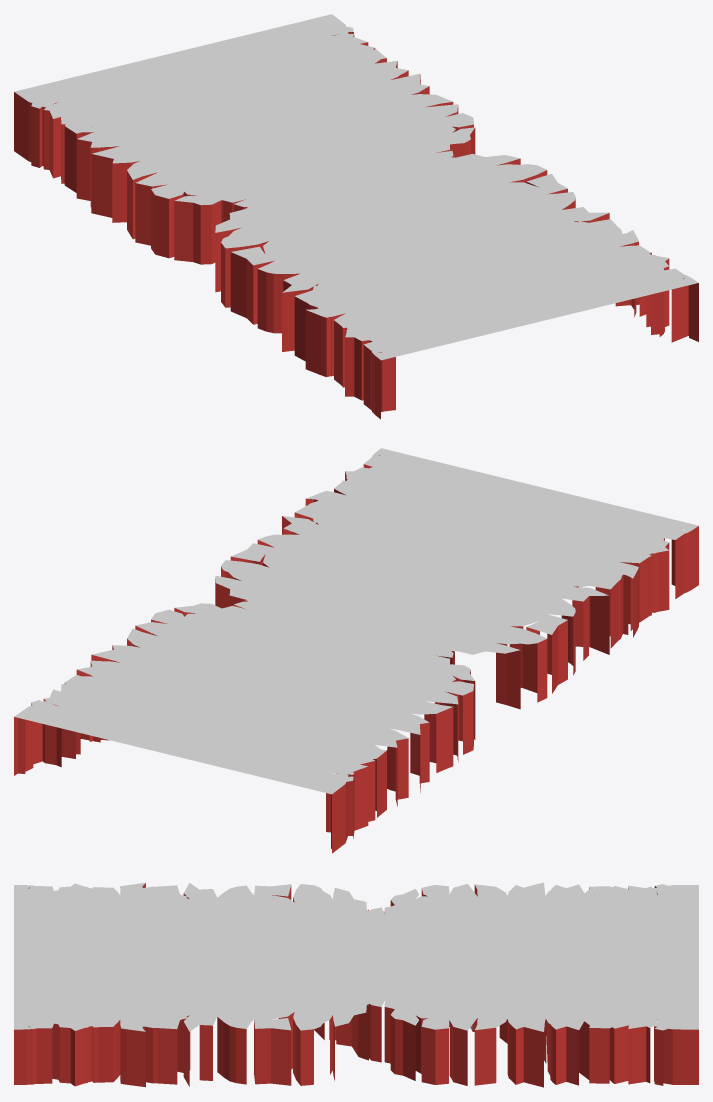
File: newice3 2.fbx
3 renders of one model, top to bottom at view 1: azimuth 30°, elevation 25°; view 2: azimuth 150°, elevation 25°; view 3: azimuth 270°, elevation 25°, orthographic. The views are drawn at different scales.
Parts seen in each view (by area): view 1: r, r.001; view 2: r, r.001; view 3: r, r.001.
Part boxes in pixels (bbox=[...]): r: bbox=[14, 17, 698, 419]; r.001: bbox=[14, 14, 697, 412]; r: bbox=[14, 448, 698, 853]; r.001: bbox=[14, 448, 688, 850]; r: bbox=[14, 882, 692, 1087]; r.001: bbox=[14, 882, 698, 1087].
Size of the model in its own units: 2899 by 500 by 5600.
